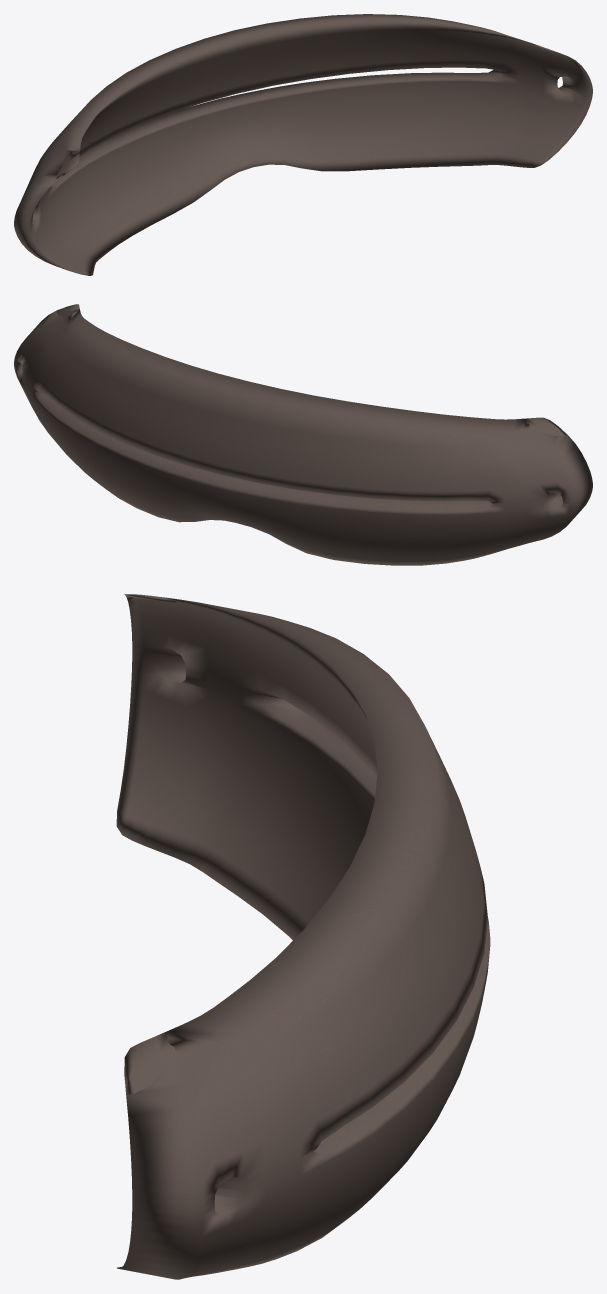
The model's file is masaracaraB.glb.
3 views of the same model, one above another, from view 1: azimuth 30°, elevation 25°; view 2: azimuth 150°, elevation 25°; view 3: azimuth 270°, elevation 25° (orthographic). The views are drawn at different scales.
Parts seen in each view (by area): view 1: Circle.001; view 2: Circle.001; view 3: Circle.001.
Boxes of the visible parts, x1=… form: Circle.001: x1=14, y1=14, x2=592, y2=275; Circle.001: x1=14, y1=304, x2=592, y2=565; Circle.001: x1=116, y1=594, x2=490, y2=1279.
Bounding box in the file's own units: 1.89 × 0.4987 × 0.5429.
Materials: 1 (1 with a texture image).
